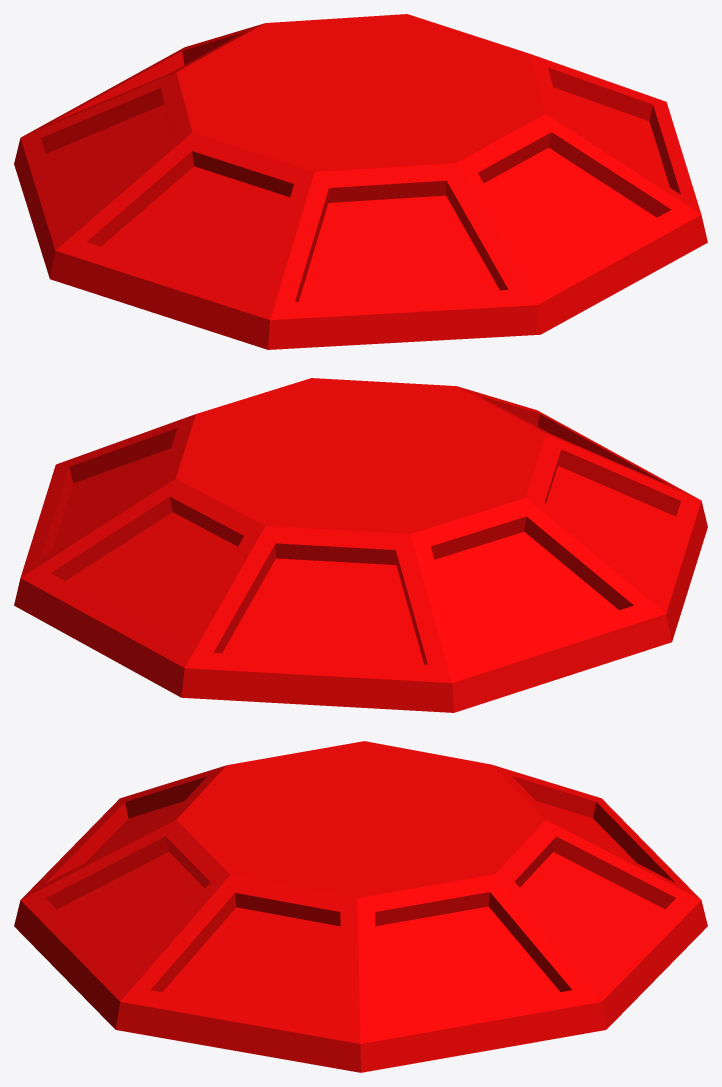
The model's file is Stand01.FBX.
3 renders of one model, top to bottom at view 1: azimuth 30°, elevation 25°; view 2: azimuth 150°, elevation 25°; view 3: azimuth 270°, elevation 25°, orthographic. The views are drawn at different scales.
Visible parts, largest first — view 1: Stand01; view 2: Stand01; view 3: Stand01.
Boxes of the visible parts, x1,y1,x2,y2 form: Stand01: [14, 14, 707, 349]; Stand01: [14, 378, 707, 712]; Stand01: [14, 741, 707, 1072].
Size of what is drawn, in the model's own units: 829 by 140 by 829.
